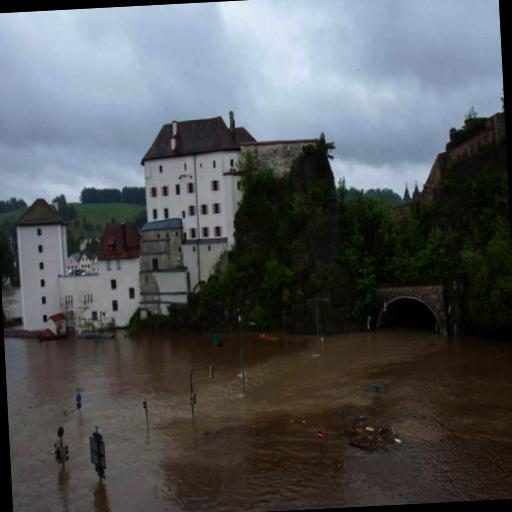flood: (4, 330, 512, 512)
house: (138, 114, 248, 250), (13, 198, 72, 320), (144, 218, 186, 279), (96, 221, 144, 265)
